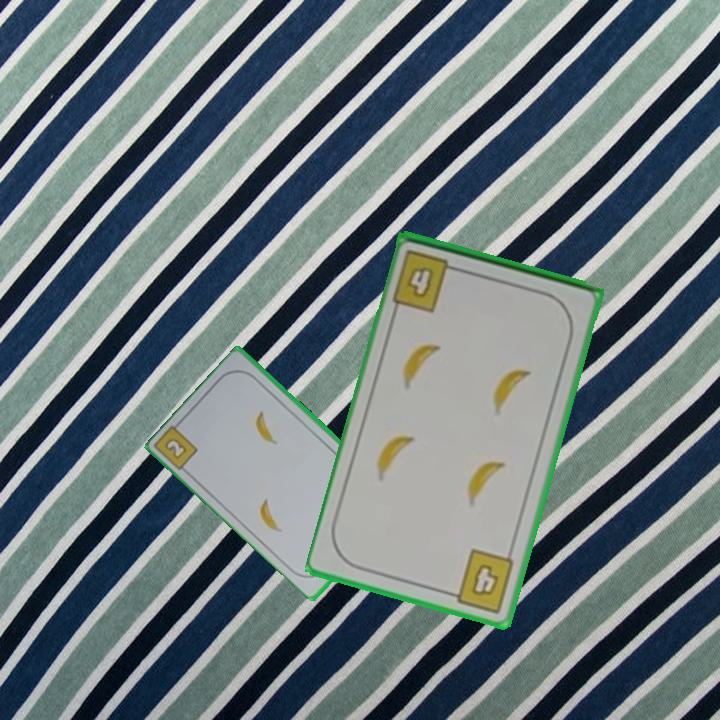2b: (161, 434, 190, 462)
4b: (443, 545, 518, 616), (388, 246, 464, 315)
